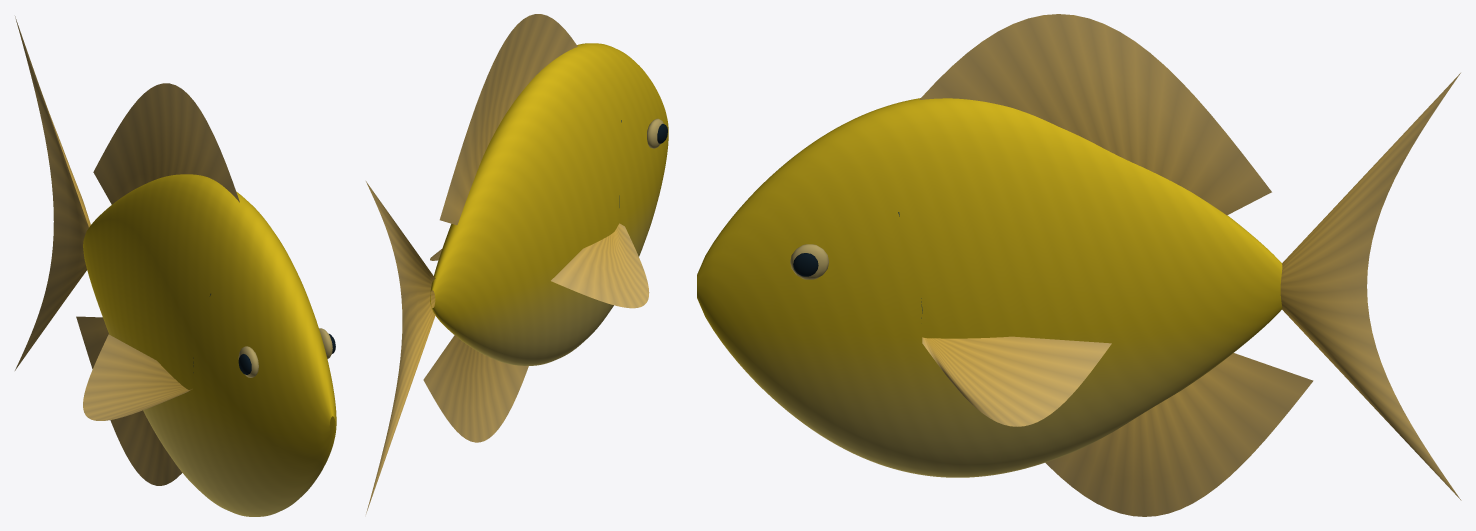
File: yellowTang.glb
3 renders of one model, left to right at view 1: azimuth 30°, elevation 25°; view 2: azimuth 150°, elevation 25°; view 3: azimuth 270°, elevation 25°, orthographic. The views are drawn at different scales.
Visible parts, largest first — view 1: Ocean Slice yellowTang; view 2: Ocean Slice yellowTang; view 3: Ocean Slice yellowTang.
Part boxes in pixels (box(x1,y1,x2,y2)): Ocean Slice yellowTang: box(15, 16, 336, 516); Ocean Slice yellowTang: box(366, 14, 668, 513); Ocean Slice yellowTang: box(697, 14, 1461, 516).
Size of the model in its own units: 0.52 by 0.936 by 1.29.
